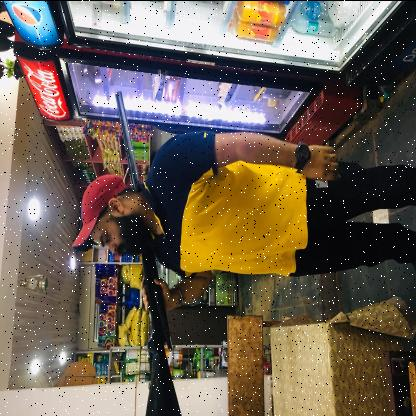rifle: (115, 90, 182, 416)
